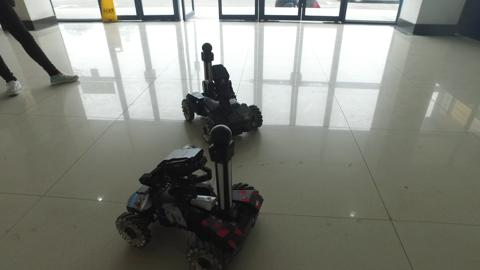chariot: (113, 122, 265, 270), (180, 41, 265, 146)
